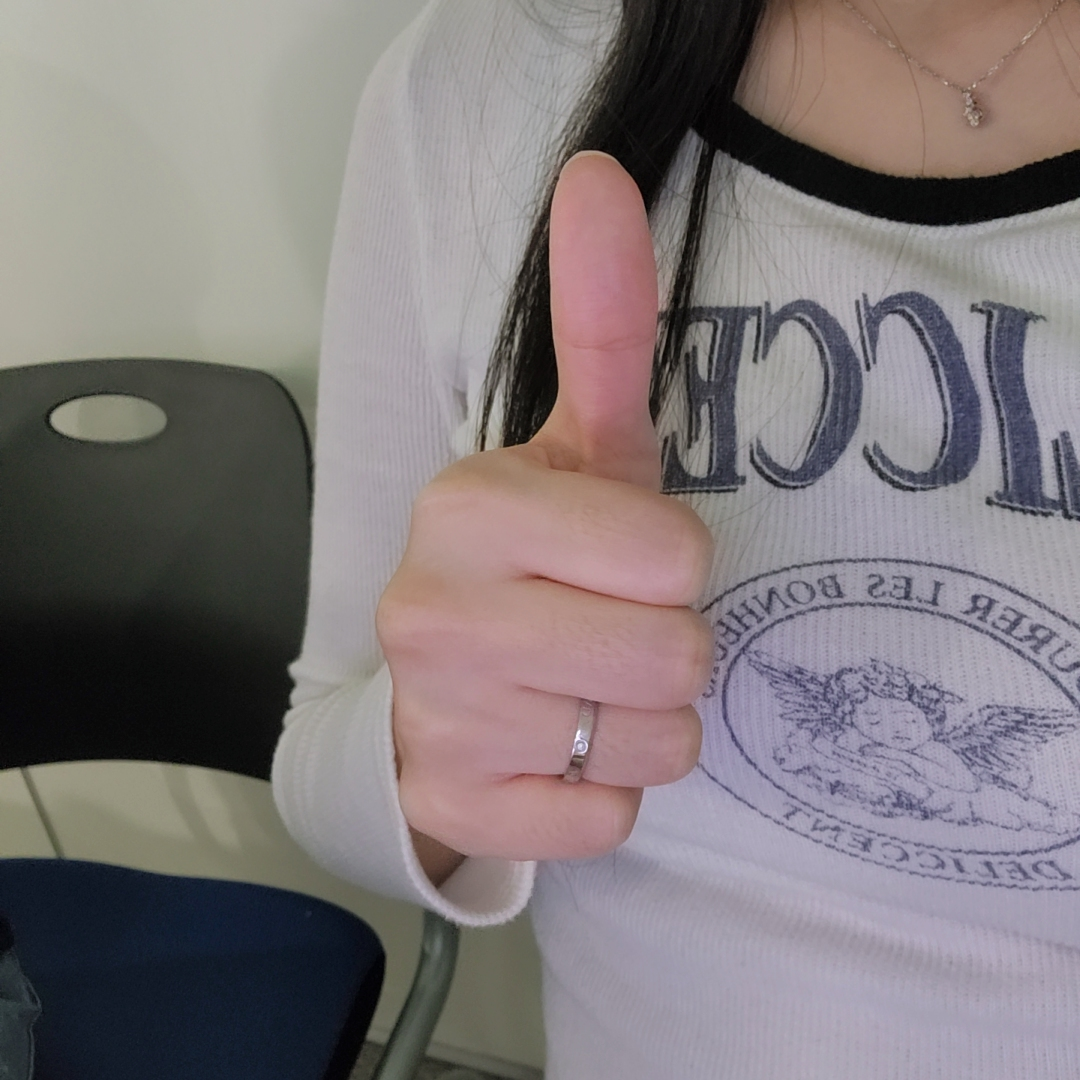best: (382, 153, 716, 862)
